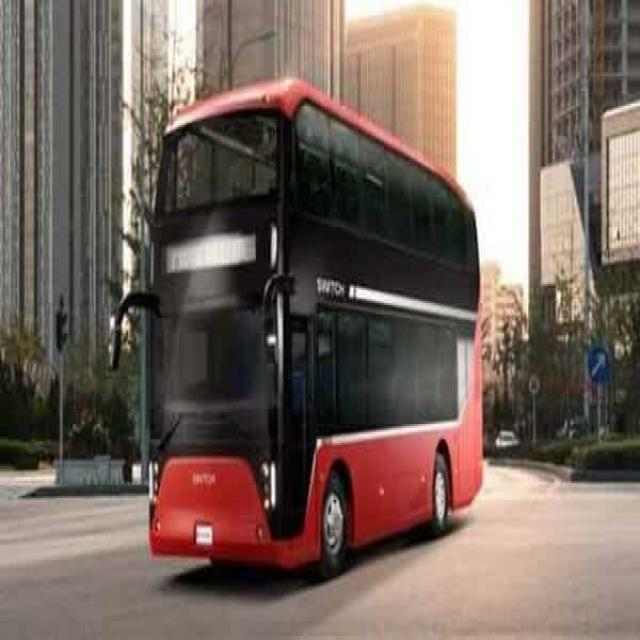bus: (114, 91, 484, 561)
